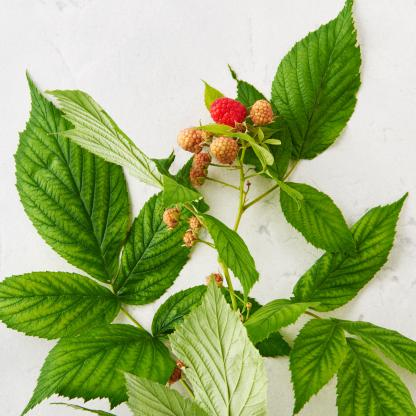raspberry leaf: (15, 67, 134, 282), (267, 0, 360, 163), (19, 323, 174, 416), (116, 160, 199, 310), (0, 271, 120, 340), (285, 318, 347, 416), (337, 335, 416, 408)
